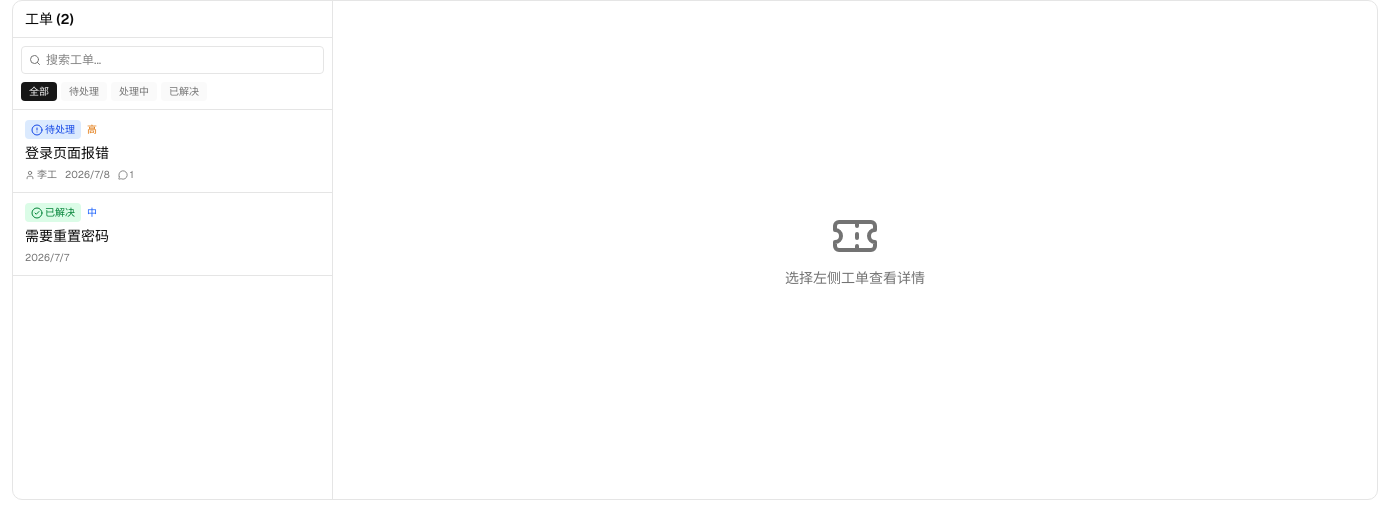
Test: HelpDesk › filters tickets by status
Click the button "已解决" at coordinates (184, 92), box x1=161 y1=82 x2=207 y2=101
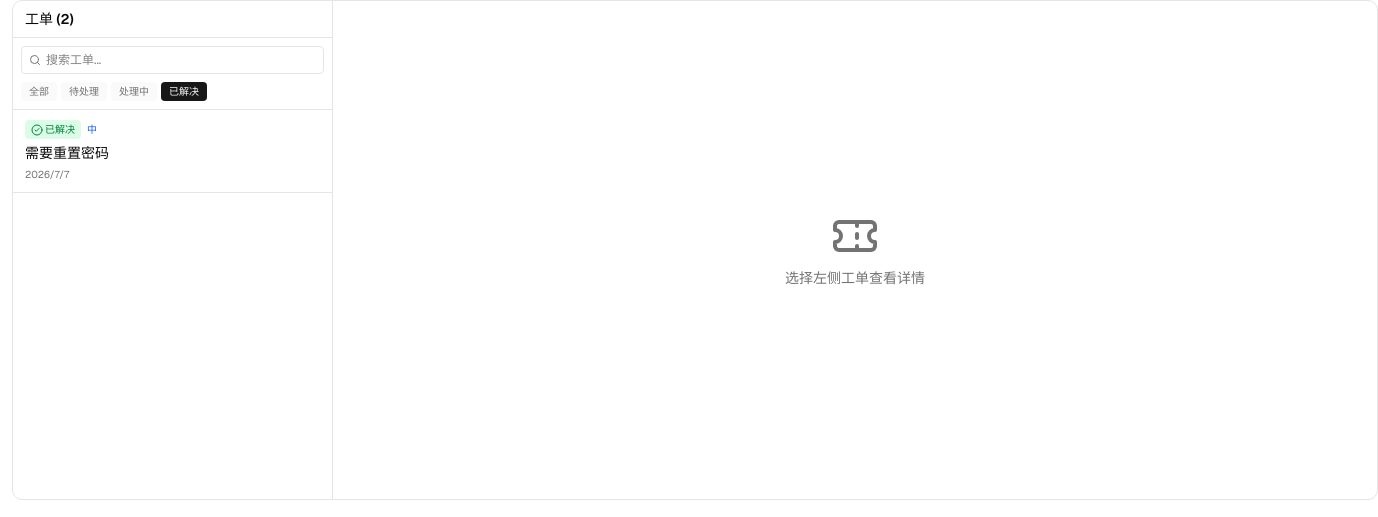
Check: the text "需要重置密码" is shown, box x1=25 y1=143 x2=109 y2=163
Check: the text "登录页面报错" is gone
